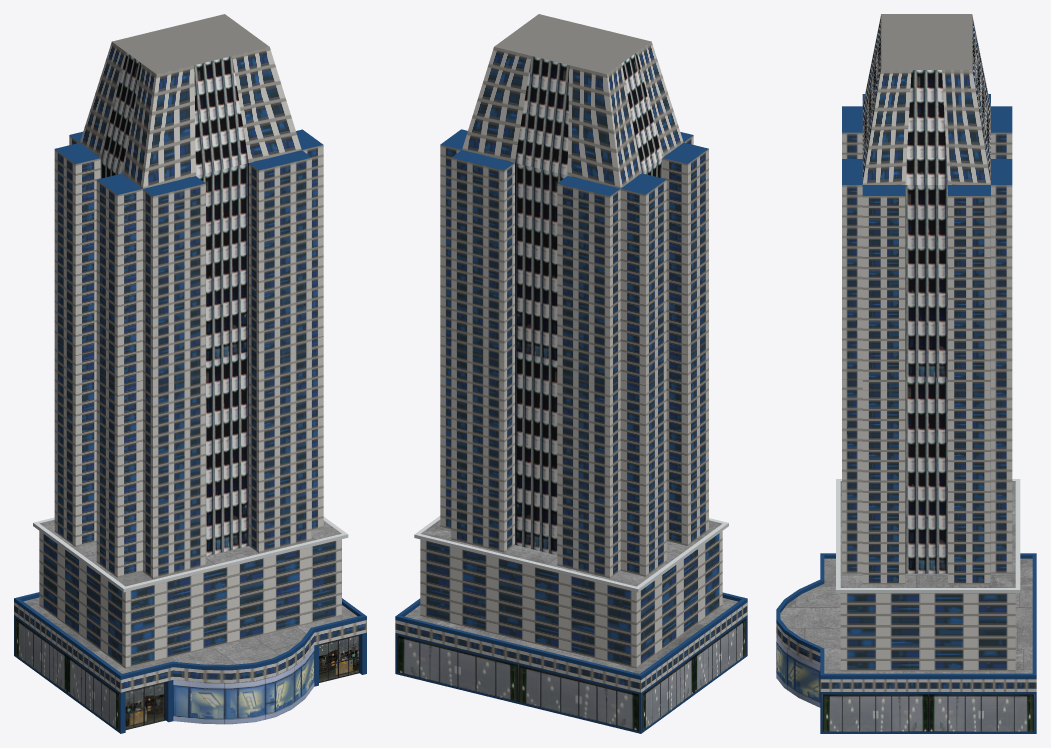
Rendered from building5.FBX.
3 renders of one model, left to right at view 1: azimuth 30°, elevation 25°; view 2: azimuth 150°, elevation 25°; view 3: azimuth 270°, elevation 25°, orthographic.
Visible parts, largest first — view 1: building5; view 2: building5; view 3: building5.
Part boxes in pixels (x1,y1,x2,y2): building5: (14, 14, 366, 733); building5: (395, 14, 747, 733); building5: (776, 14, 1036, 733).
Size of the model in its own units: 120 by 290 by 108.
